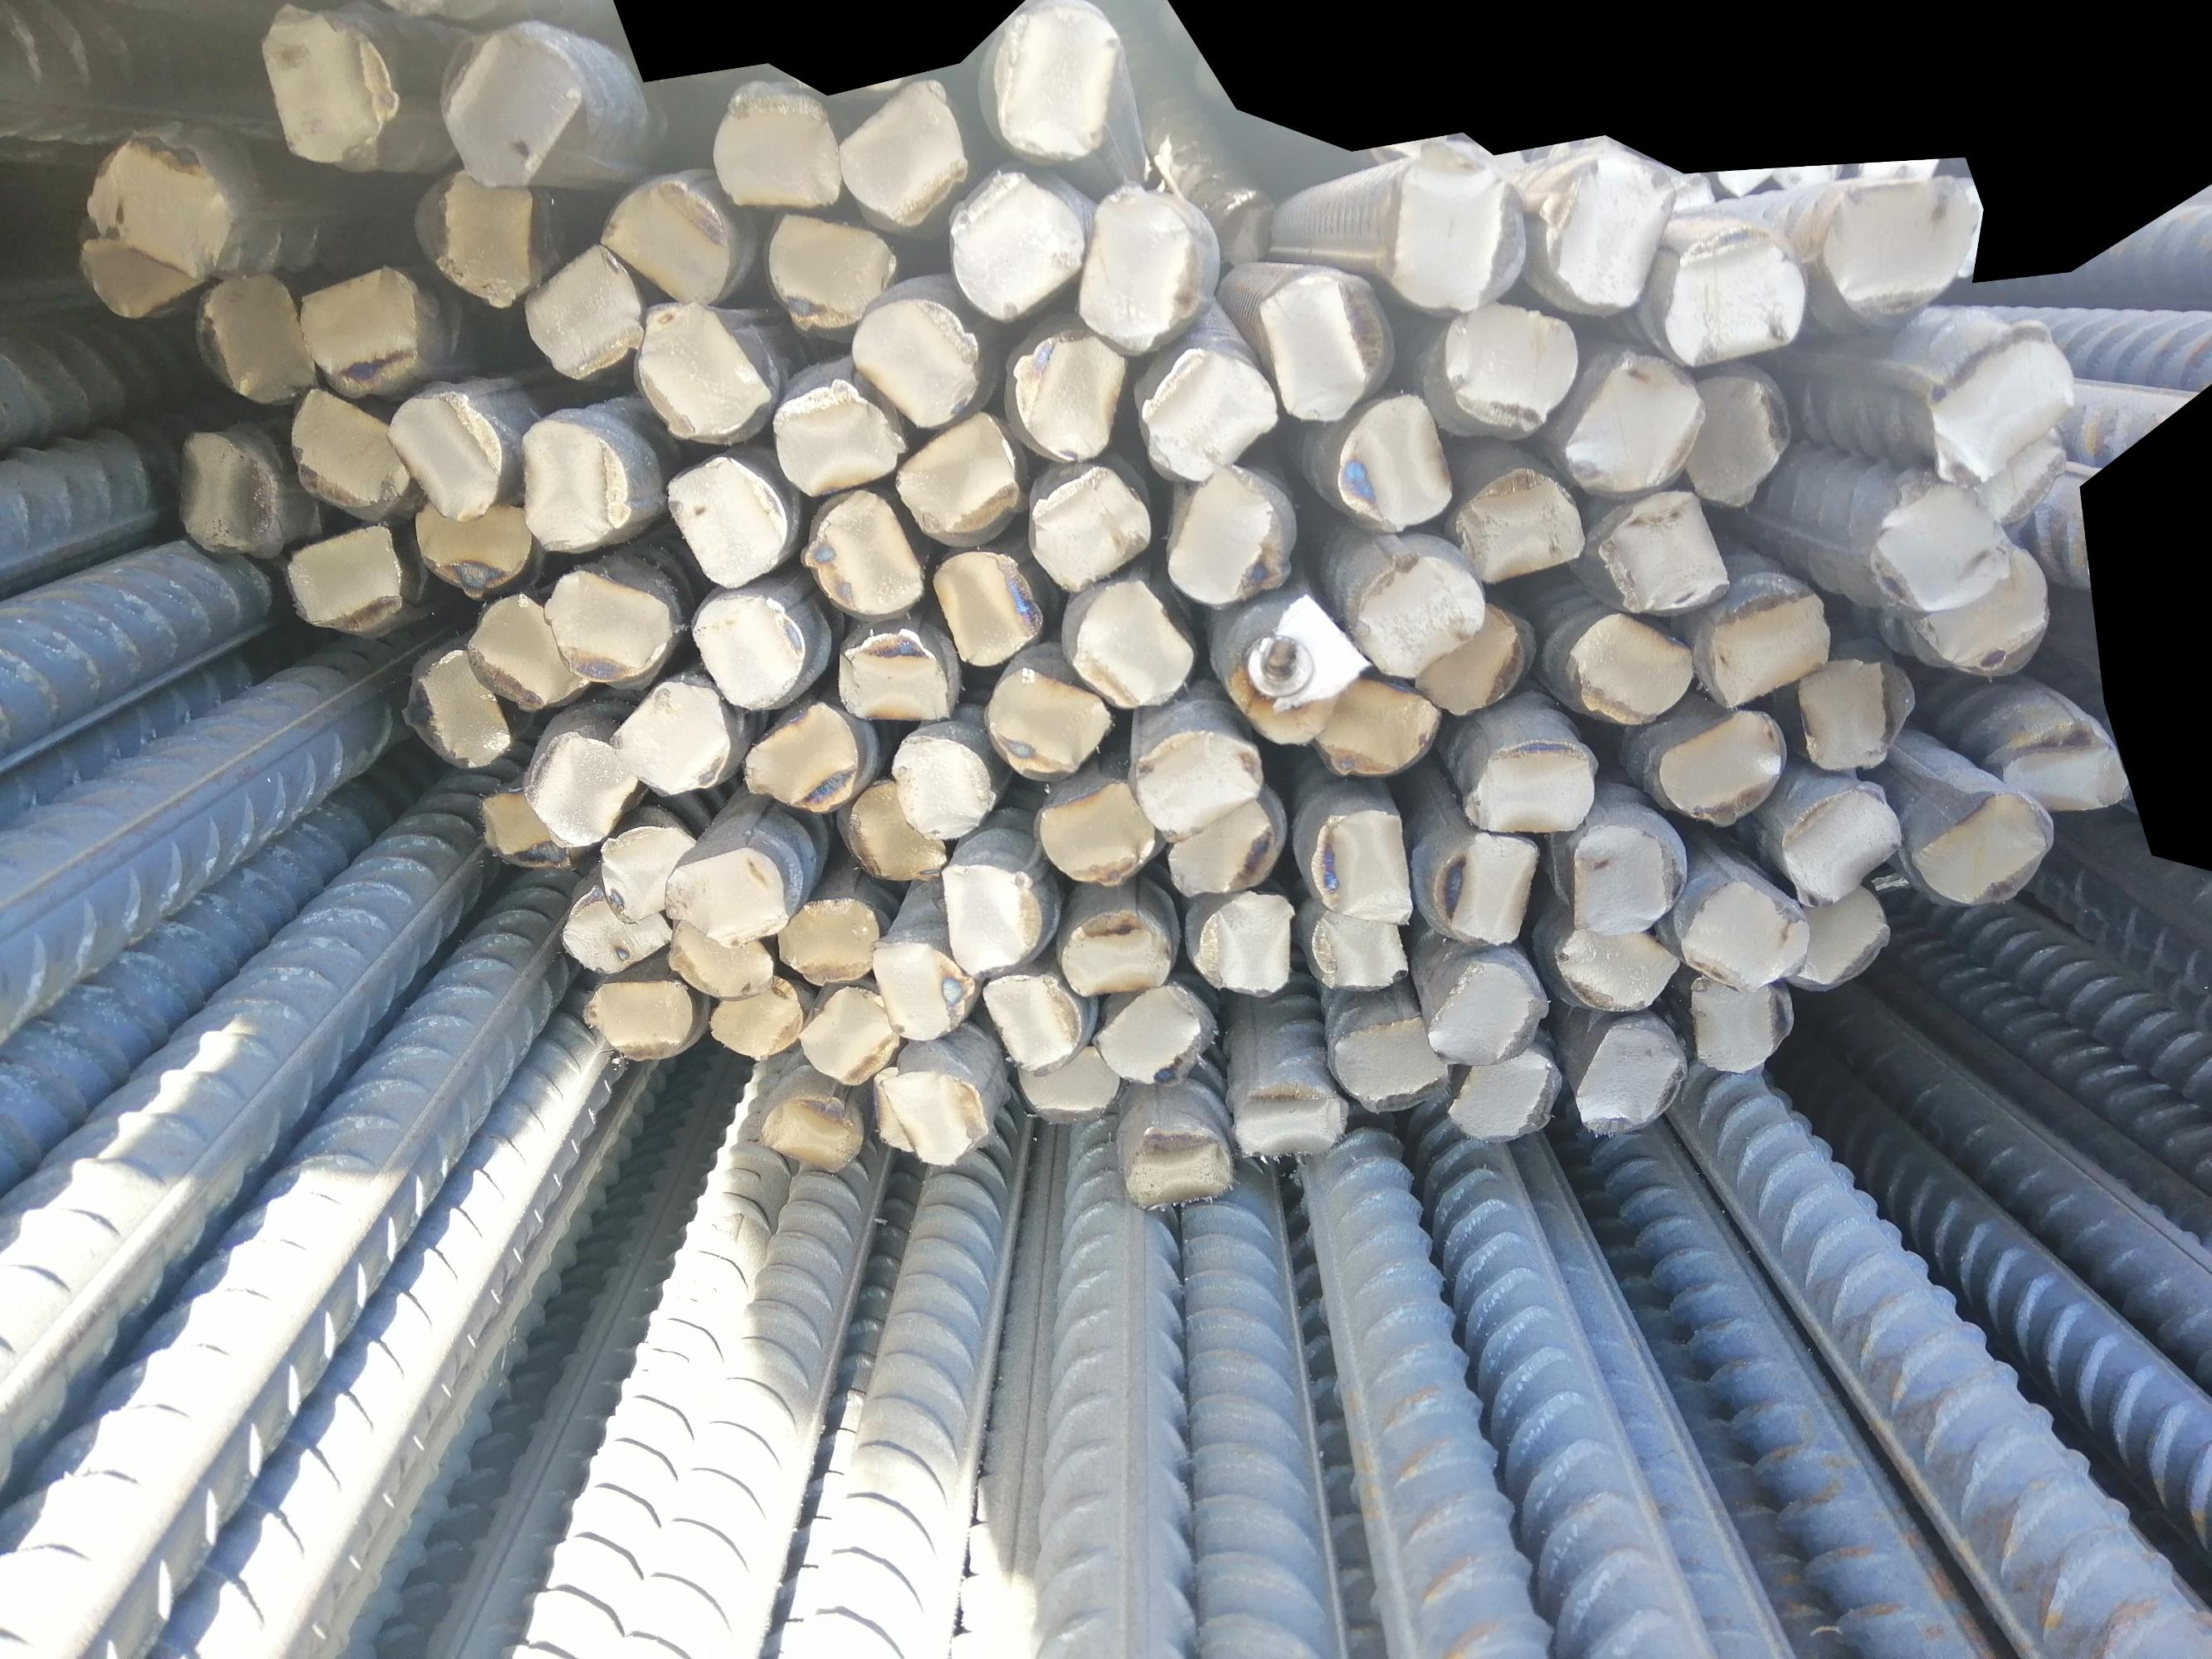bar: (1912, 310, 2083, 483), (248, 0, 404, 171), (429, 17, 582, 190), (1825, 169, 1980, 331), (1386, 141, 1527, 314), (983, 0, 1130, 166), (1536, 155, 1677, 317), (1659, 225, 1813, 373), (1553, 349, 1705, 495), (1250, 260, 1381, 423), (1867, 474, 2020, 613), (1431, 298, 1584, 436), (948, 166, 1084, 319), (631, 296, 772, 443), (96, 122, 232, 274), (709, 66, 845, 218), (1079, 183, 1199, 354), (406, 164, 546, 310), (1140, 342, 1278, 484), (838, 78, 969, 228), (1344, 549, 1487, 685), (591, 174, 737, 305), (1591, 484, 1734, 617), (1919, 542, 2055, 680), (1156, 464, 1288, 605), (1912, 784, 2062, 908), (1058, 577, 1198, 709), (661, 446, 790, 589), (847, 289, 981, 425), (892, 413, 1023, 552), (286, 376, 411, 519), (385, 375, 507, 521), (1651, 702, 1788, 829), (1766, 777, 1907, 901), (1333, 390, 1454, 535), (187, 274, 317, 406), (777, 369, 910, 500), (514, 408, 631, 556), (1557, 606, 1701, 725), (762, 206, 898, 331), (77, 204, 216, 326), (295, 260, 422, 392), (1701, 587, 1835, 713), (802, 483, 926, 619), (521, 239, 641, 378), (1126, 725, 1262, 847), (1677, 366, 1790, 512), (1675, 873, 1813, 993), (683, 582, 812, 709), (1405, 596, 1536, 720), (169, 422, 291, 554), (1224, 622, 1349, 749), (1787, 650, 1912, 777), (540, 563, 669, 685), (985, 662, 1114, 784), (1014, 324, 1124, 467), (1452, 465, 1590, 579), (1025, 464, 1149, 589), (1461, 728, 1595, 842), (277, 512, 403, 633), (401, 643, 514, 775), (610, 671, 730, 795), (467, 586, 586, 709), (1944, 418, 2080, 525), (1421, 955, 1551, 1065), (521, 728, 636, 852), (1032, 772, 1156, 887), (662, 838, 793, 946), (929, 549, 1046, 669), (1429, 823, 1537, 951), (1306, 802, 1422, 920), (406, 486, 532, 596), (934, 850, 1044, 976), (1572, 1019, 1687, 1138), (1560, 824, 1680, 938), (1321, 1011, 1454, 1114), (1996, 720, 2130, 821), (1313, 674, 1440, 781), (1677, 971, 1801, 1079), (1548, 922, 1684, 1019), (741, 701, 858, 814), (1091, 979, 1213, 1087), (1780, 882, 1896, 993), (872, 1061, 992, 1169), (833, 622, 952, 728), (887, 734, 997, 847), (981, 967, 1095, 1075), (1163, 795, 1281, 897), (837, 772, 943, 882), (1192, 894, 1299, 1004), (1119, 1117, 1234, 1218), (591, 819, 702, 920), (553, 882, 675, 974), (1452, 1044, 1565, 1143), (1232, 1072, 1349, 1166), (868, 938, 967, 1047), (1058, 903, 1171, 999), (580, 969, 697, 1061), (770, 890, 879, 990), (1302, 903, 1415, 995), (800, 983, 899, 1086), (664, 913, 777, 1000), (476, 784, 580, 877), (755, 1087, 865, 1173), (1016, 1037, 1121, 1126), (706, 978, 804, 1058), (1211, 174, 1281, 268)
